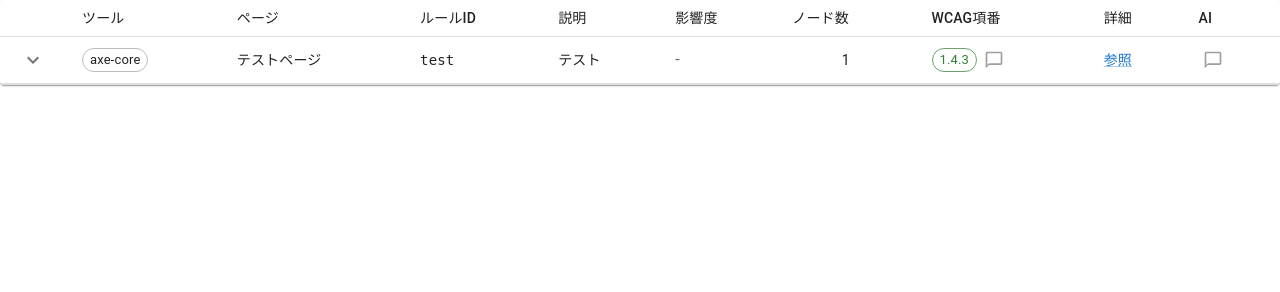
Test: フロントエンド統合テスト (Task 12.2) › タブ切り替え時のUI一貫性 (Req 4.3) › PassesTable › NodeDetails展開機能がある
The width and height of the screenshot is (1280, 292).
Click the button named "ノード情報を展開": (33, 60) [16,43,50,77]
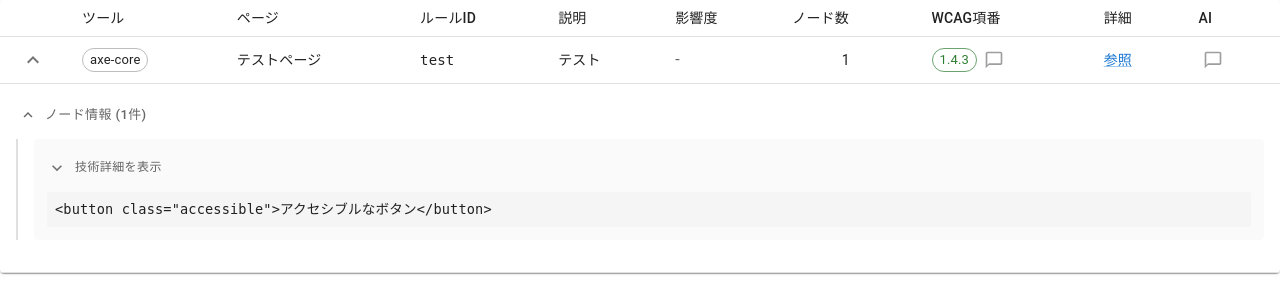
Expected: the text "<button class=\"accessible\">アクセシブルなボタン</button>" is shown, [47,192,1251,227]
